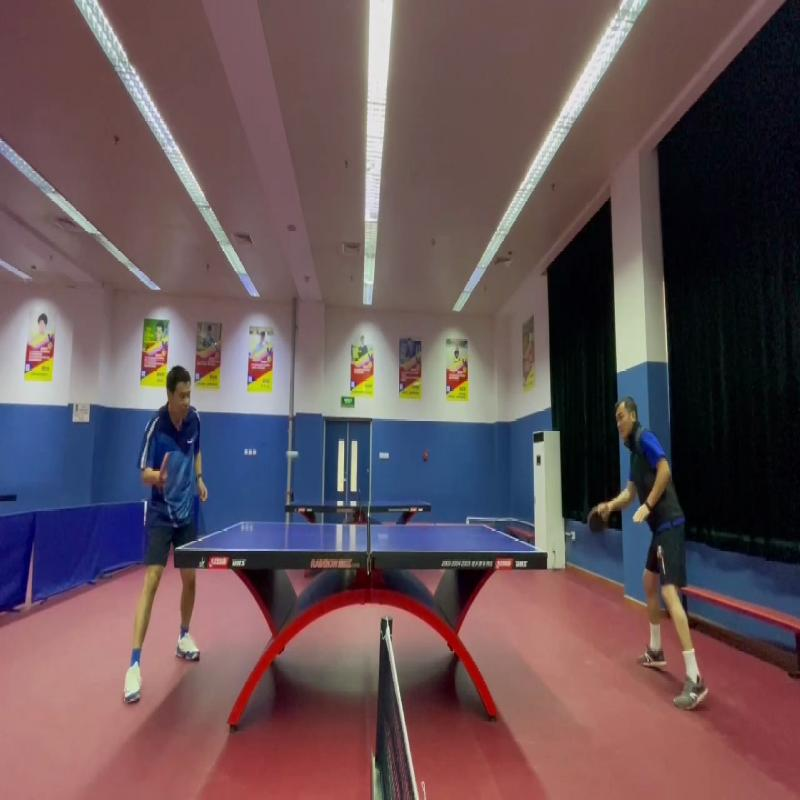bats: (151, 444, 173, 482)
